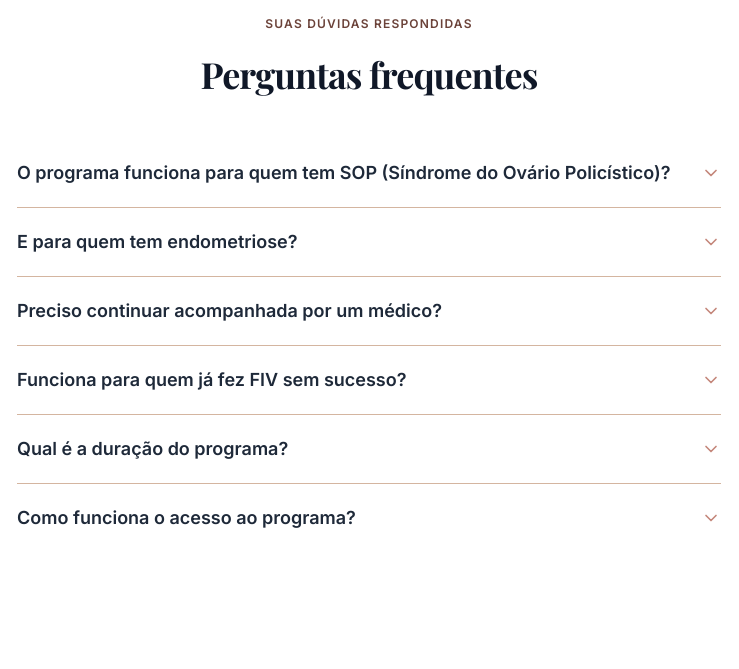
Test: FaqSection › abre o accordion ao clicar no botão
Step 1. Click the 1st button → {"x": 369, "y": 173}, box [17,139,721,207]
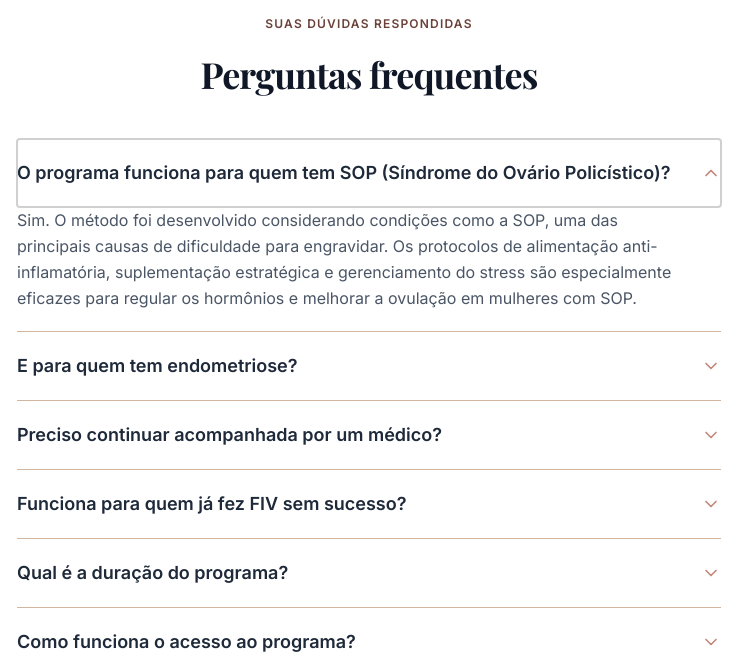
Expected: the 1st button is expanded, [17,139,721,207]
